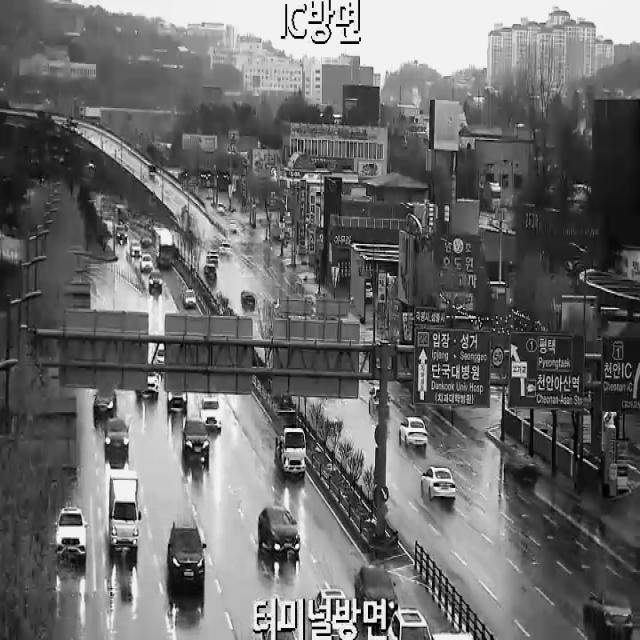Car: (353, 563, 399, 621), (110, 470, 142, 551), (167, 520, 206, 585), (584, 590, 634, 640), (314, 589, 354, 640), (258, 506, 300, 554), (55, 507, 88, 557), (388, 608, 430, 640), (421, 465, 455, 502), (182, 420, 210, 461), (105, 416, 130, 457), (399, 418, 428, 448), (200, 398, 221, 433), (260, 621, 298, 640), (94, 389, 118, 418), (138, 372, 160, 396), (167, 392, 188, 412), (369, 387, 390, 407), (149, 272, 163, 294), (203, 264, 217, 284), (241, 289, 255, 308), (116, 226, 128, 247), (184, 289, 197, 308), (141, 253, 153, 270), (130, 240, 142, 257), (206, 251, 219, 266), (219, 243, 232, 255), (149, 165, 156, 181)
Truck: (276, 410, 306, 476), (153, 227, 173, 267)
